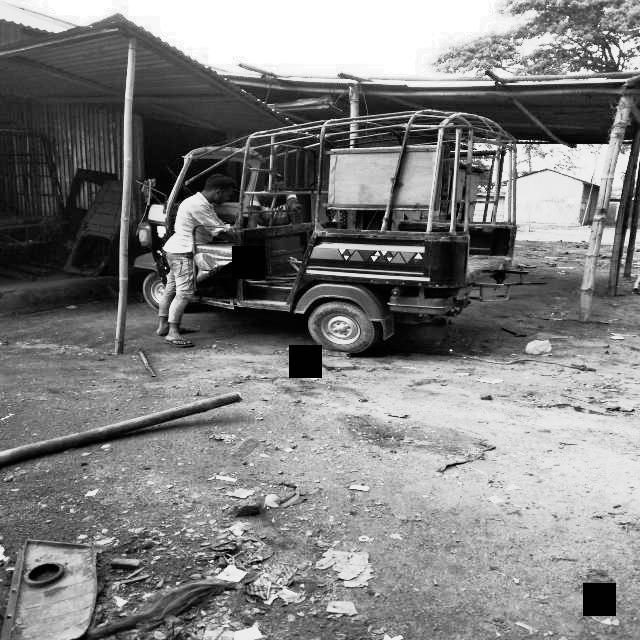Auto-Rickshaw: (135, 111, 531, 355)
